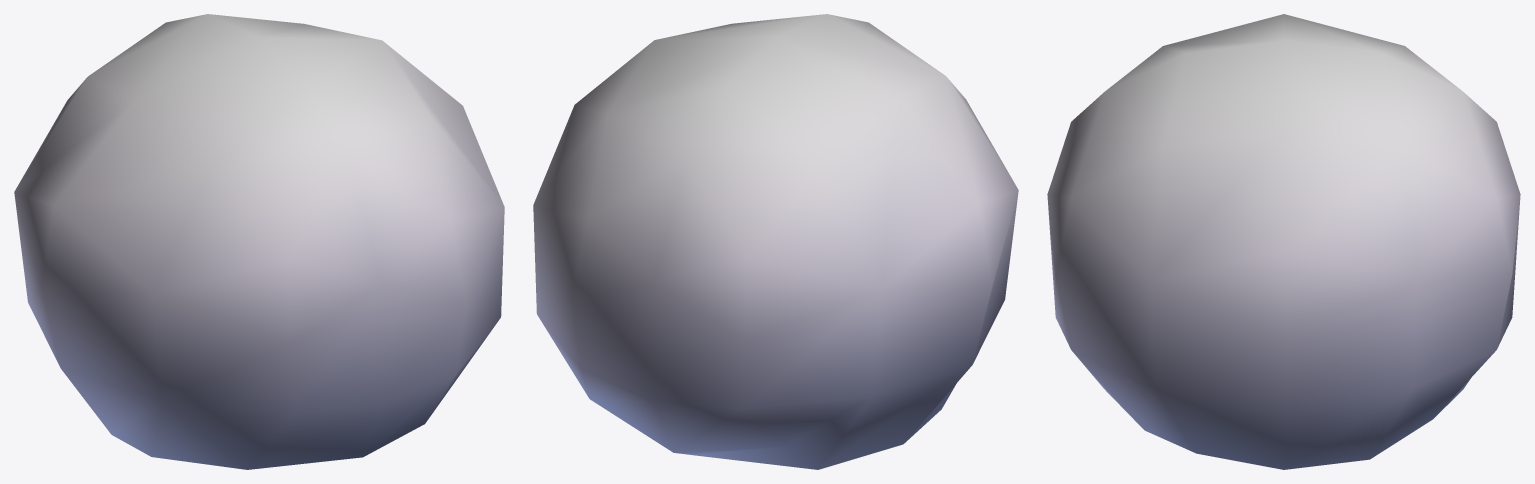
The model's file is HolidaySnowManMiddle.glb.
3 renders of one model, left to right at view 1: azimuth 30°, elevation 25°; view 2: azimuth 150°, elevation 25°; view 3: azimuth 270°, elevation 25°, orthographic. The views are drawn at different scales.
Parts seen in each view (by area): view 1: HolidaySnowManMiddle; view 2: HolidaySnowManMiddle; view 3: HolidaySnowManMiddle.
Part boxes in pixels (x1,y1,x2,y2): HolidaySnowManMiddle: (14, 14, 504, 469); HolidaySnowManMiddle: (533, 14, 1018, 469); HolidaySnowManMiddle: (1047, 14, 1520, 469).
Bounding box in the file's own units: 0.3595 × 0.2963 × 0.3474.
